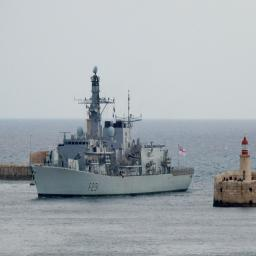Fragata: (28, 60, 198, 205)
